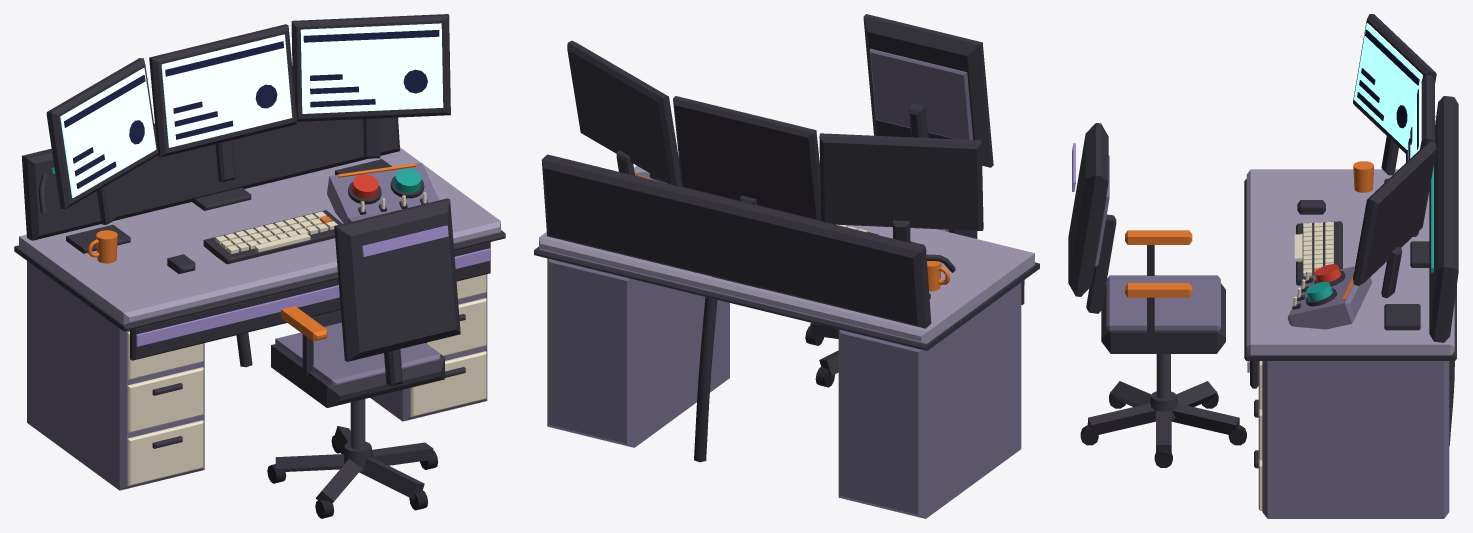
File: hq_console.glb
3 views of the same model, side by side, from view 1: azimuth 30°, elevation 25°; view 2: azimuth 150°, elevation 25°; view 3: azimuth 270°, elevation 25° (orthographic). The views are drawn at different scales.
Visible parts, largest first — view 1: desk_graphite, desk_purpleGrey, desk_emissive, desk_purpleGreyLight, desk_creamHull, desk_navy, desk_role, desk_orange, chair_rubber, chair_steel, desk_teal, desk_red; view 2: desk_graphite, desk_purpleGrey, desk_purpleGreyLight; view 3: desk_purpleGrey, desk_graphite, desk_purpleGreyLight, desk_emissive, desk_orange, desk_creamHull, desk_navy, chair_rubber, desk_teal, chair_steel.
Boxes of the visible parts, x1,y1,x2,y2 form: desk_graphite: (14,14,505,503); desk_purpleGrey: (27,163,487,490); desk_emissive: (60,23,443,197); desk_purpleGreyLight: (19,147,500,324); desk_creamHull: (127,192,486,485); desk_navy: (64,30,439,188); desk_role: (136,225,490,346); desk_orange: (88,163,415,341); chair_rubber: (267,435,437,518); chair_steel: (350,399,365,449); desk_teal: (51,167,421,193); desk_red: (351,174,378,199); desk_graphite: (534,14,1039,462); desk_purpleGrey: (547,48,1021,518); desk_purpleGreyLight: (539,166,1034,343); desk_purpleGrey: (1094,155,1449,518); desk_graphite: (1068,14,1458,468); desk_purpleGreyLight: (1246,169,1454,355); desk_emissive: (1354,23,1422,270); desk_orange: (1125,161,1373,300); desk_creamHull: (1258,222,1333,510); desk_navy: (1357,29,1419,206); chair_rubber: (1080,393,1246,467); desk_teal: (1306,165,1433,301); chair_steel: (1156,354,1170,398).
Bounding box in the file's own units: 1.7 × 1.39 × 1.5.
